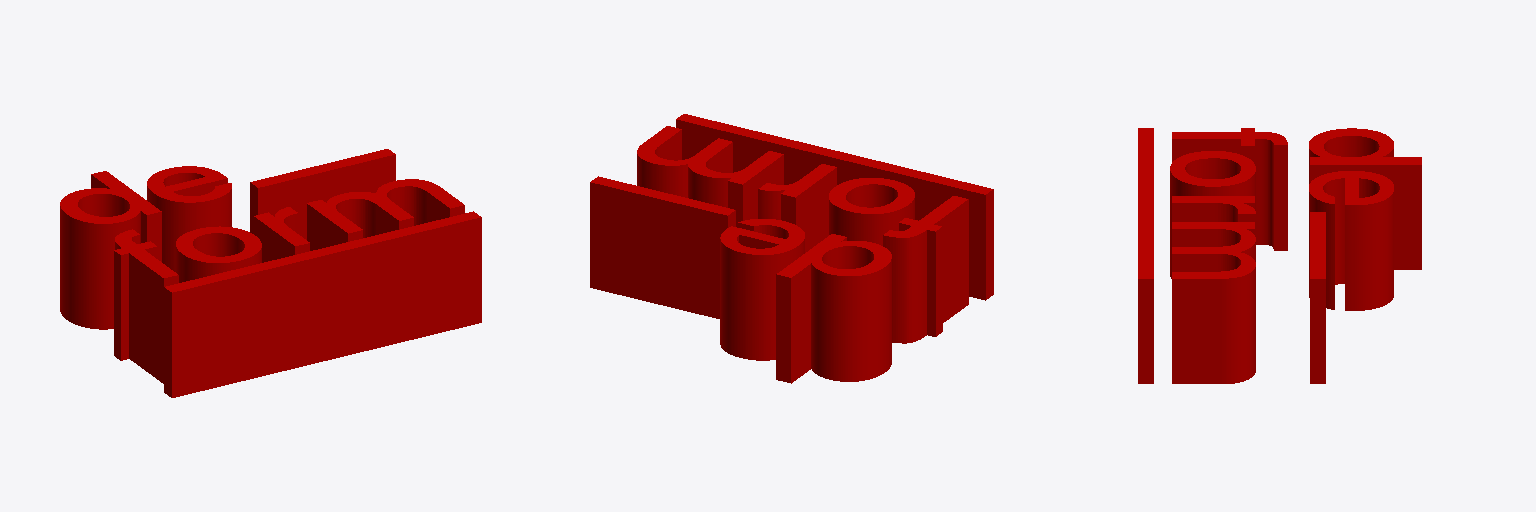
The model's file is opened_no_modifier.obj.
3 renders of one model, left to right at view 1: azimuth 30°, elevation 25°; view 2: azimuth 150°, elevation 25°; view 3: azimuth 270°, elevation 25°, orthographic.
Visible parts, largest first — view 1: Curve.001; view 2: Curve.001; view 3: Curve.001.
Boxes of the visible parts, box(x1,y1,x2,y2) form: Curve.001: box(60, 149, 481, 397); Curve.001: box(590, 114, 993, 383); Curve.001: box(1138, 128, 1421, 383).
Bounding box in the file's own units: 7.9 × 2.57 × 6.26.